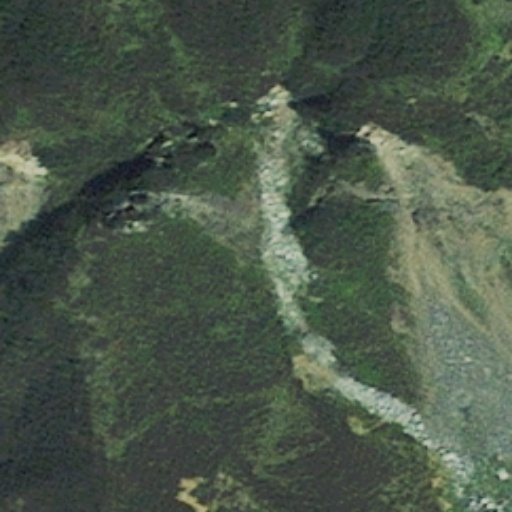landslide: (361, 125, 504, 353), (247, 76, 320, 323)
